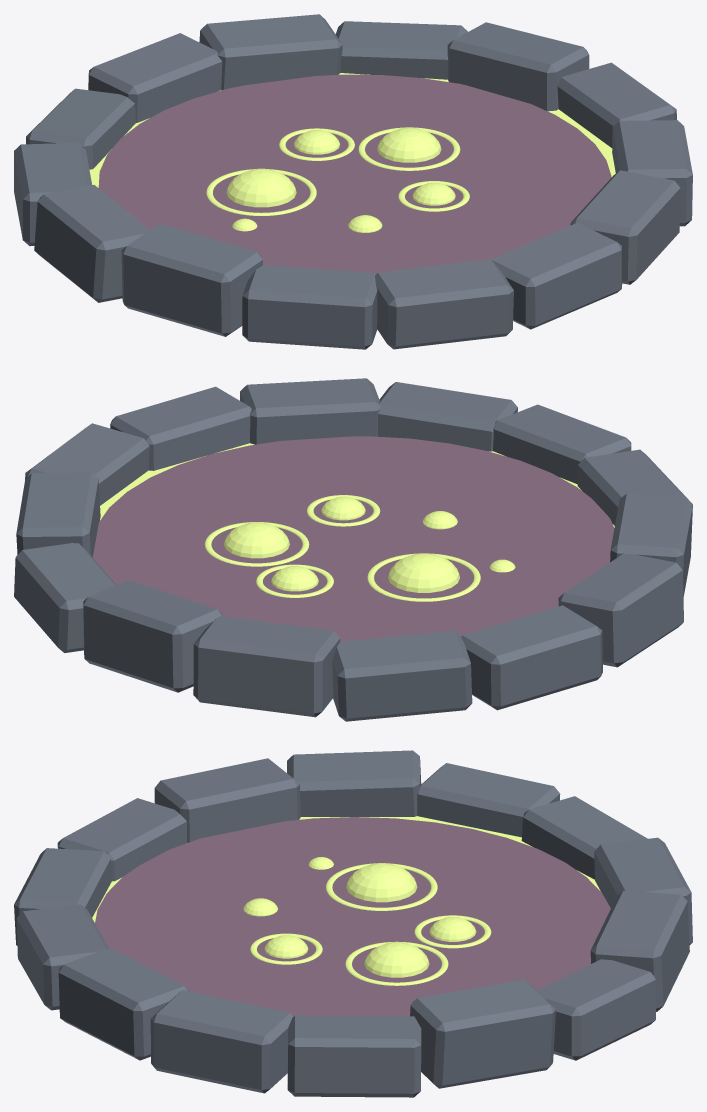
The model's file is Stage_03_迷魂泥潭陷阱.glb.
3 renders of one model, top to bottom at view 1: azimuth 30°, elevation 25°; view 2: azimuth 150°, elevation 25°; view 3: azimuth 270°, elevation 25°, orthographic. The views are drawn at different scales.
Visible parts, largest first — view 1: Cylinder.001, Cube.008, Cube.010, Cube.009, Cube.011, Cube.007, Cube.001, Cube.003, Cube.004, Cube.012, Cube.002, Cube (+12 smaller); view 2: Cylinder.001, Cube.004, Cube.005, Cube.003, Cube.006, Cube.007, Cube.012, Cube.013, Cube.002, Cube.011, Cube.010, Cube.001 (+12 smaller); view 3: Cylinder.001, Cube.001, Cube.013, Cube, Cube.012, Cube.008, Cube.002, Cube.007, Cube.003, Cube.006, Cube.011, Cube.009 (+12 smaller).
Part boxes in pixels (x1=…): Cylinder.001: x1=98, y1=74, x2=611, y2=273; Cube.008: x1=121, y1=223, x2=262, y2=336; Cube.010: x1=375, y1=259, x2=513, y2=349; Cube.009: x1=242, y1=265, x2=377, y2=349; Cube.011: x1=491, y1=223, x2=622, y2=329; Cube.007: x1=34, y1=185, x2=149, y2=302; Cube.001: x1=447, y1=22, x2=589, y2=111; Cube.003: x1=199, y1=14, x2=342, y2=90; Cube.004: x1=88, y1=33, x2=222, y2=122; Cube.012: x1=570, y1=170, x2=680, y2=284; Cube.002: x1=335, y1=21, x2=467, y2=79; Cube: x1=557, y1=62, x2=676, y2=147; Cylinder.001: x1=93, y1=436, x2=614, y2=641; Cube.004: x1=193, y1=616, x2=340, y2=717; Cube.005: x1=332, y1=631, x2=472, y2=721; Cube.003: x1=83, y1=580, x2=222, y2=692; Cube.006: x1=461, y1=605, x2=602, y2=710; Cube.007: x1=558, y1=554, x2=683, y2=667; Cube.012: x1=240, y1=378, x2=380, y2=444; Cube.013: x1=110, y1=386, x2=251, y2=470; Cube.002: x1=14, y1=543, x2=115, y2=652; Cube.011: x1=378, y1=382, x2=517, y2=451; Cube.010: x1=493, y1=404, x2=631, y2=484; Cube.001: x1=16, y1=472, x2=100, y2=557; Cylinder.001: x1=95, y1=817, x2=610, y2=1016; Cube.001: x1=410, y1=979, x2=555, y2=1088; Cube.013: x1=150, y1=990, x2=293, y2=1093; Cube: x1=287, y1=1015, x2=421, y2=1097; Cube.012: x1=58, y1=948, x2=189, y2=1060; Cube.008: x1=154, y1=758, x2=300, y2=842; Cube.002: x1=537, y1=959, x2=655, y2=1060; Cube.007: x1=287, y1=750, x2=421, y2=816; Cube.003: x1=590, y1=890, x2=689, y2=1011; Cube.006: x1=417, y1=763, x2=560, y2=837; Cube.011: x1=16, y1=904, x2=108, y2=1010; Cube.009: x1=57, y1=798, x2=186, y2=881.
Size of the model in its own units: 4.52 by 0.5329 by 4.49.
